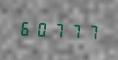seven: (50, 19, 65, 40), (66, 20, 81, 41), (82, 21, 97, 41)
six: (18, 17, 33, 38)
zero: (34, 18, 49, 39)
